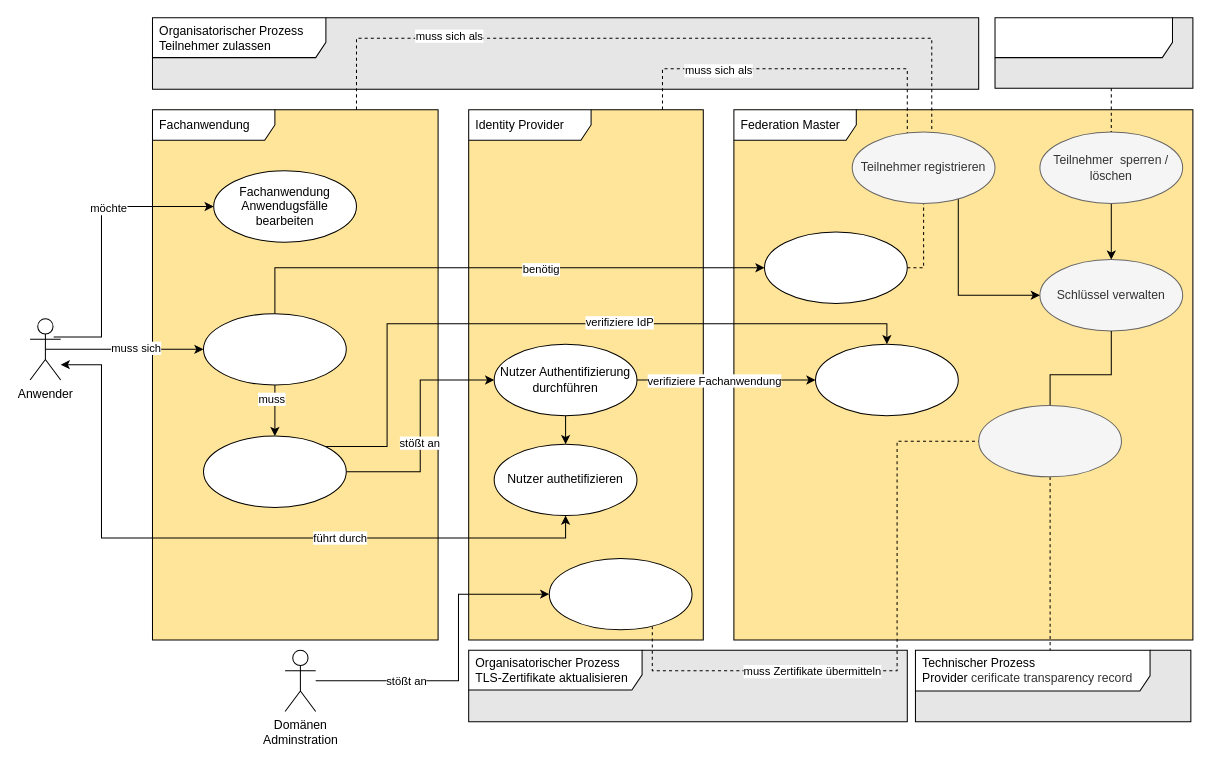
The diagram is 1211 pixels wide and 766 high, and some of its shapes have lost their labels. Each missing label, with the centre of its shape:
"Aktualisierung TLS-Zertifikate" goes at pixel 620 593.
"an Fachanwendung anmelden" goes at pixel 274 349.
"Autorisierung prüfen" goes at pixel 274 471.
"Entity-Statement bereitstellen" goes at pixel 886 379.
"IdP Liste bereitstellen" goes at pixel 835 267.
"Organisatorischer Prozess Teilnehmer sperren / löschen" goes at pixel 1093 52.
"Zertifikate prüfen (cerificate transparency)" goes at pixel 1049 440.
